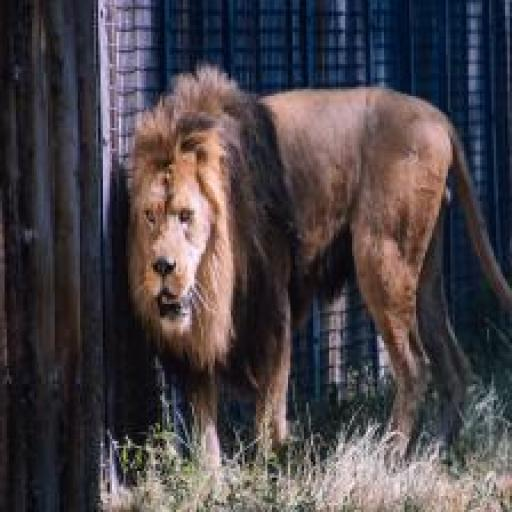lion: (116, 55, 502, 474)
